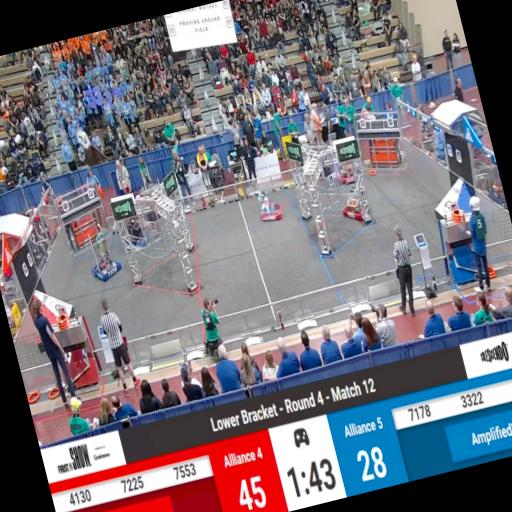robot: (338, 180, 374, 226), (88, 239, 124, 283), (256, 190, 284, 225), (120, 220, 148, 250)
